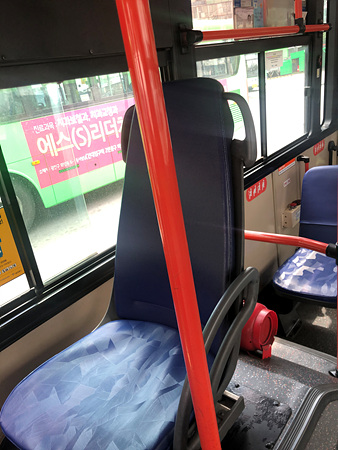seat: (11, 88, 243, 441)
